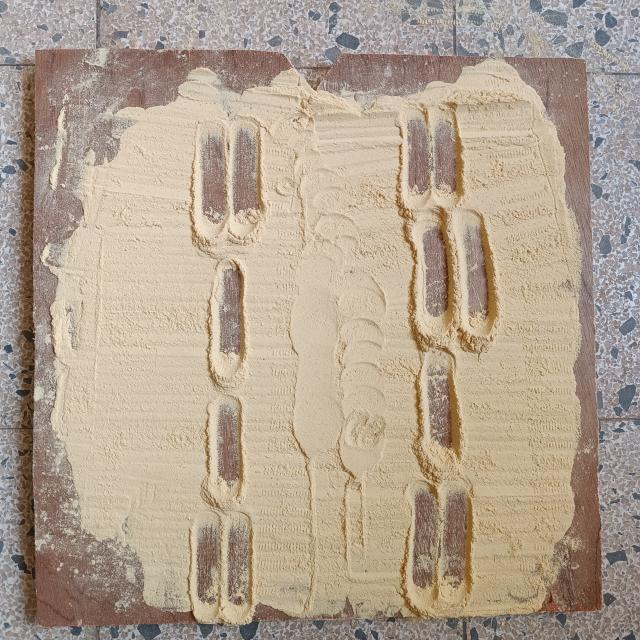double: (400, 212, 502, 346), (399, 478, 479, 616), (192, 120, 272, 248), (184, 507, 262, 632), (392, 98, 471, 208)
single: (409, 346, 466, 482), (207, 256, 252, 393), (200, 390, 248, 508)
